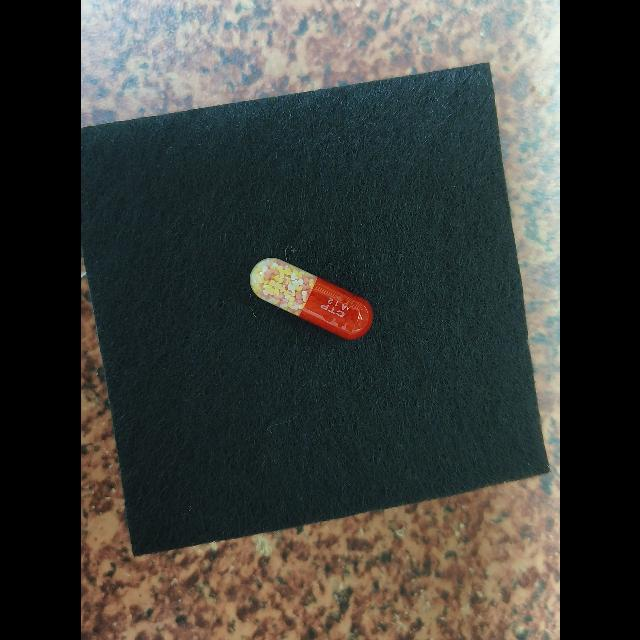Intact Capsule: (249, 258, 373, 340)
